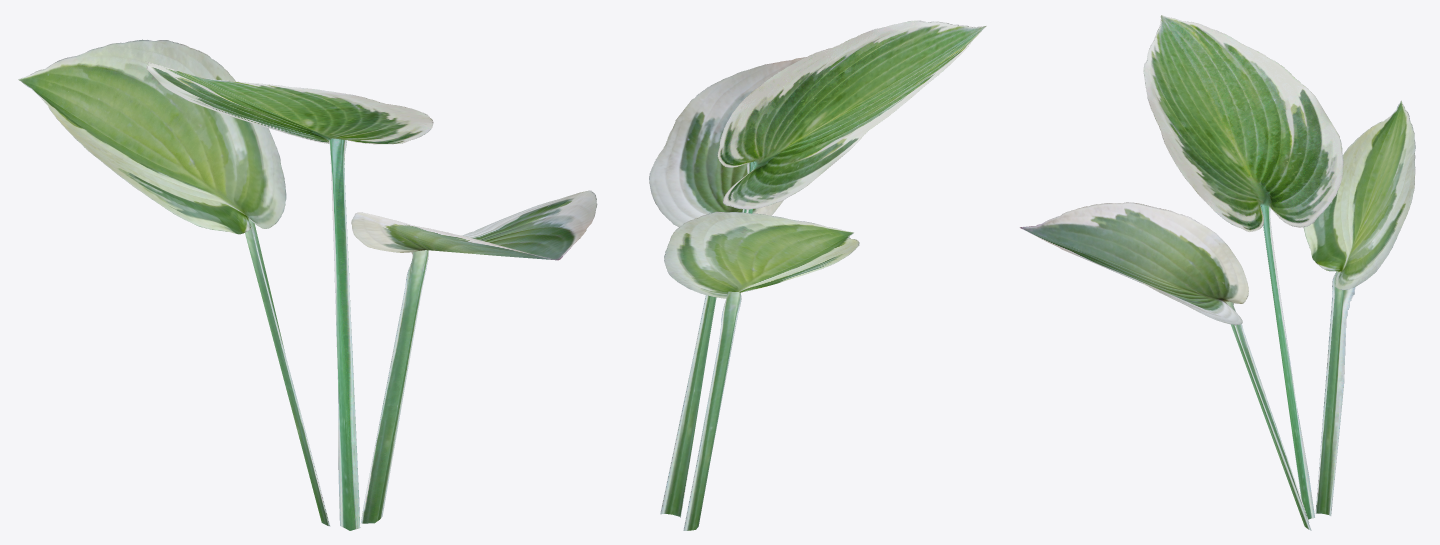
File: plant_small_wg_00_fillerB_wild.fbx
3 views of the same model, side by side, from view 1: azimuth 30°, elevation 25°; view 2: azimuth 150°, elevation 25°; view 3: azimuth 270°, elevation 25° (orthographic). The views are drawn at different scales.
Parts seen in each view (by area): view 1: plant_small_wg_00_fillerB_wild; view 2: plant_small_wg_00_fillerB_wild; view 3: plant_small_wg_00_fillerB_wild.
Part boxes in pixels (<box>): plant_small_wg_00_fillerB_wild: <box>18,39,597,530</box>; plant_small_wg_00_fillerB_wild: <box>649,20,986,530</box>; plant_small_wg_00_fillerB_wild: <box>1020,15,1415,530</box>.
Size of the model in its own units: 29.07 by 41.29 by 36.65.
